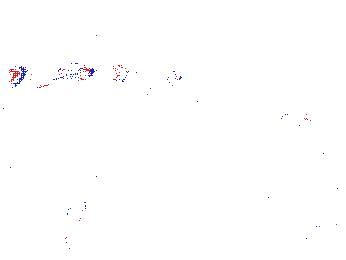glassfish: (66, 159, 104, 224)
red belly glassfish: (262, 112, 313, 129)
redtail glassfish: (8, 55, 96, 91), (112, 60, 183, 97)
